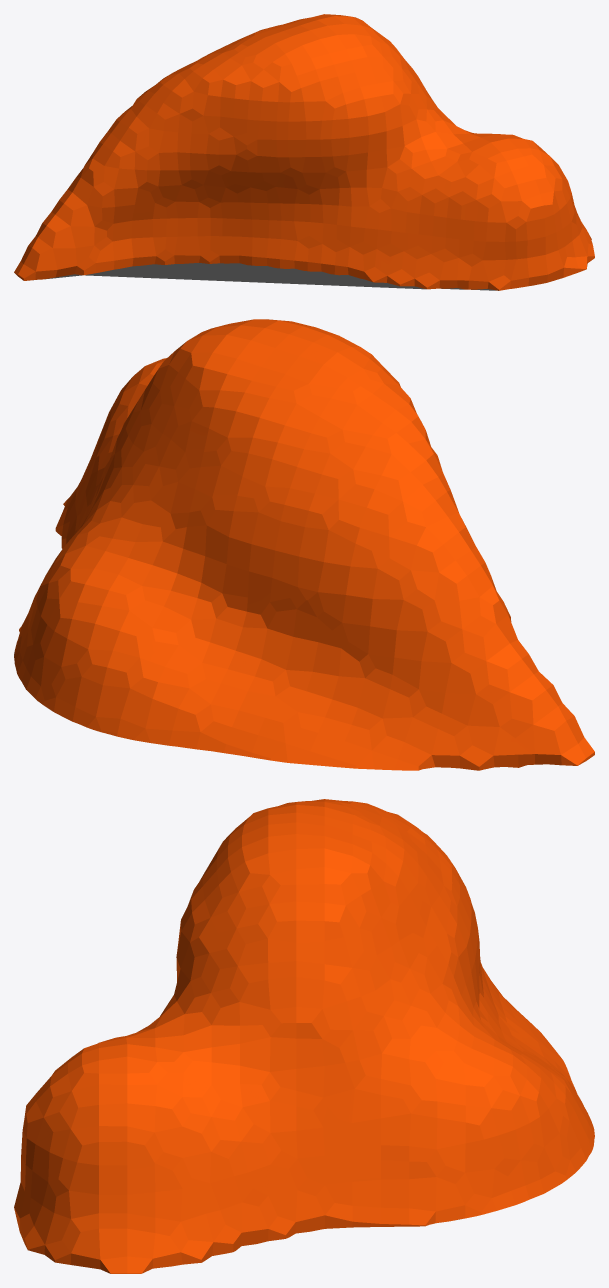
3 renders of one model, top to bottom at view 1: azimuth 30°, elevation 25°; view 2: azimuth 150°, elevation 25°; view 3: azimuth 270°, elevation 25°, orthographic. The views are drawn at different scales.
Parts seen in each view (by area): view 1: 19.011; view 2: 19.011; view 3: 19.011.
Boxes of the visible parts, bbox=[...] form: 19.011: bbox=[14, 14, 594, 290]; 19.011: bbox=[14, 319, 594, 770]; 19.011: bbox=[14, 799, 594, 1273].
Size of the model in its own units: 13.55 by 5.92 by 10.3.
